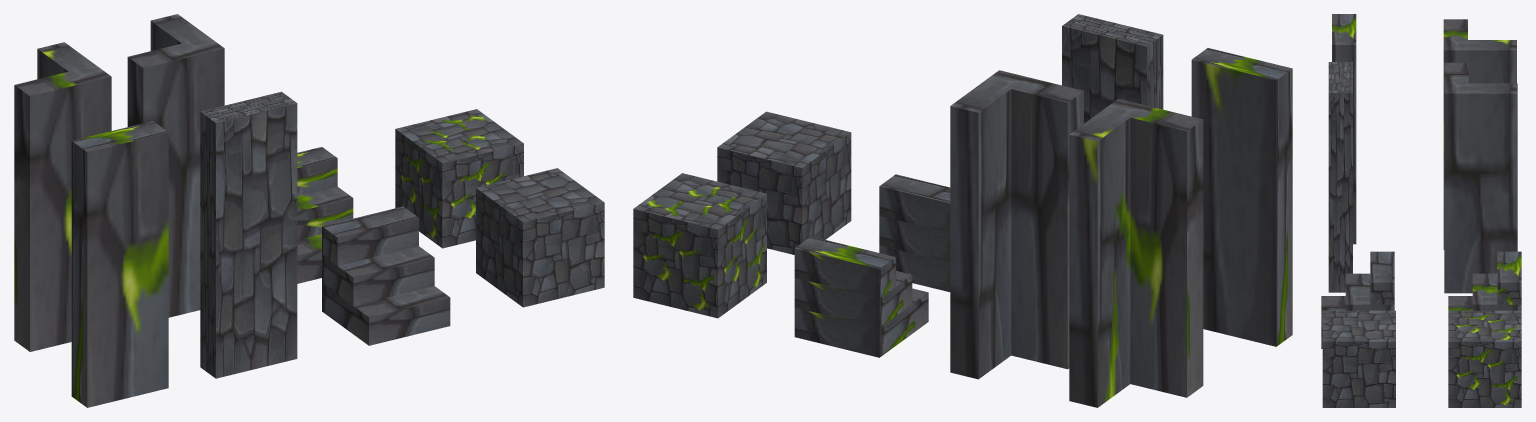
File: Bricks (1).fbx
3 renders of one model, left to right at view 1: azimuth 30°, elevation 25°; view 2: azimuth 150°, elevation 25°; view 3: azimuth 270°, elevation 25°, orthographic. The views are drawn at different scales.
Parts seen in each view (by area): view 1: Cube.001, Cube.027, Cube.026, Cube.002, Cube.024, Cube.030, Cube, Cube.025; view 2: Cube.026, Cube.002, Cube.027, Cube, Cube.024, Cube.025, Cube.001, Cube.030; view 3: Cube.002, Cube, Cube.024, Cube.001, Cube.026, Cube.030, Cube.025, Cube.027.
Boxes of the visible parts, x1,y1,x2,y2 form: Cube.001: (200,91,297,378); Cube.027: (71,121,168,407); Cube.026: (14,42,111,351); Cube.002: (127,14,224,317); Cube.024: (476,168,604,307); Cube.030: (322,206,450,345); Cube: (395,109,523,248); Cube.025: (297,147,353,283); Cube.026: (1069,99,1203,407); Cube.002: (950,70,1083,379); Cube.027: (1191,48,1292,346); Cube: (633,173,766,318); Cube.024: (717,111,851,254); Cube.025: (794,236,928,357); Cube.001: (1062,14,1163,123); Cube.030: (879,174,950,291); Cube.002: (1444,62,1517,293); Cube: (1448,310,1521,407); Cube.024: (1322,310,1395,407); Cube.001: (1328,62,1352,292); Cube.026: (1443,19,1516,249); Cube.030: (1321,251,1394,348); Cube.025: (1448,251,1521,310); Cube.027: (1332,14,1356,244).
Size of the model in its own units: 1883 by 900 by 819.
